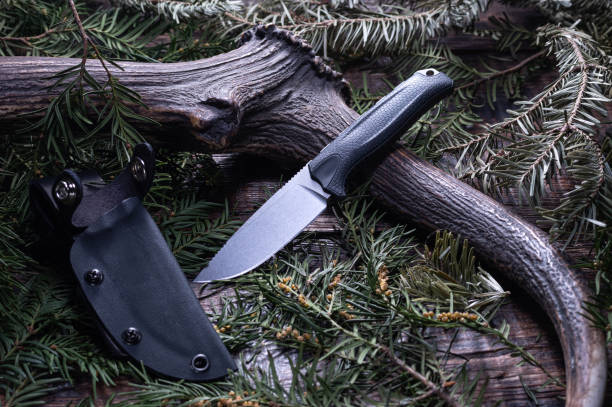knife: (190, 66, 456, 286)
